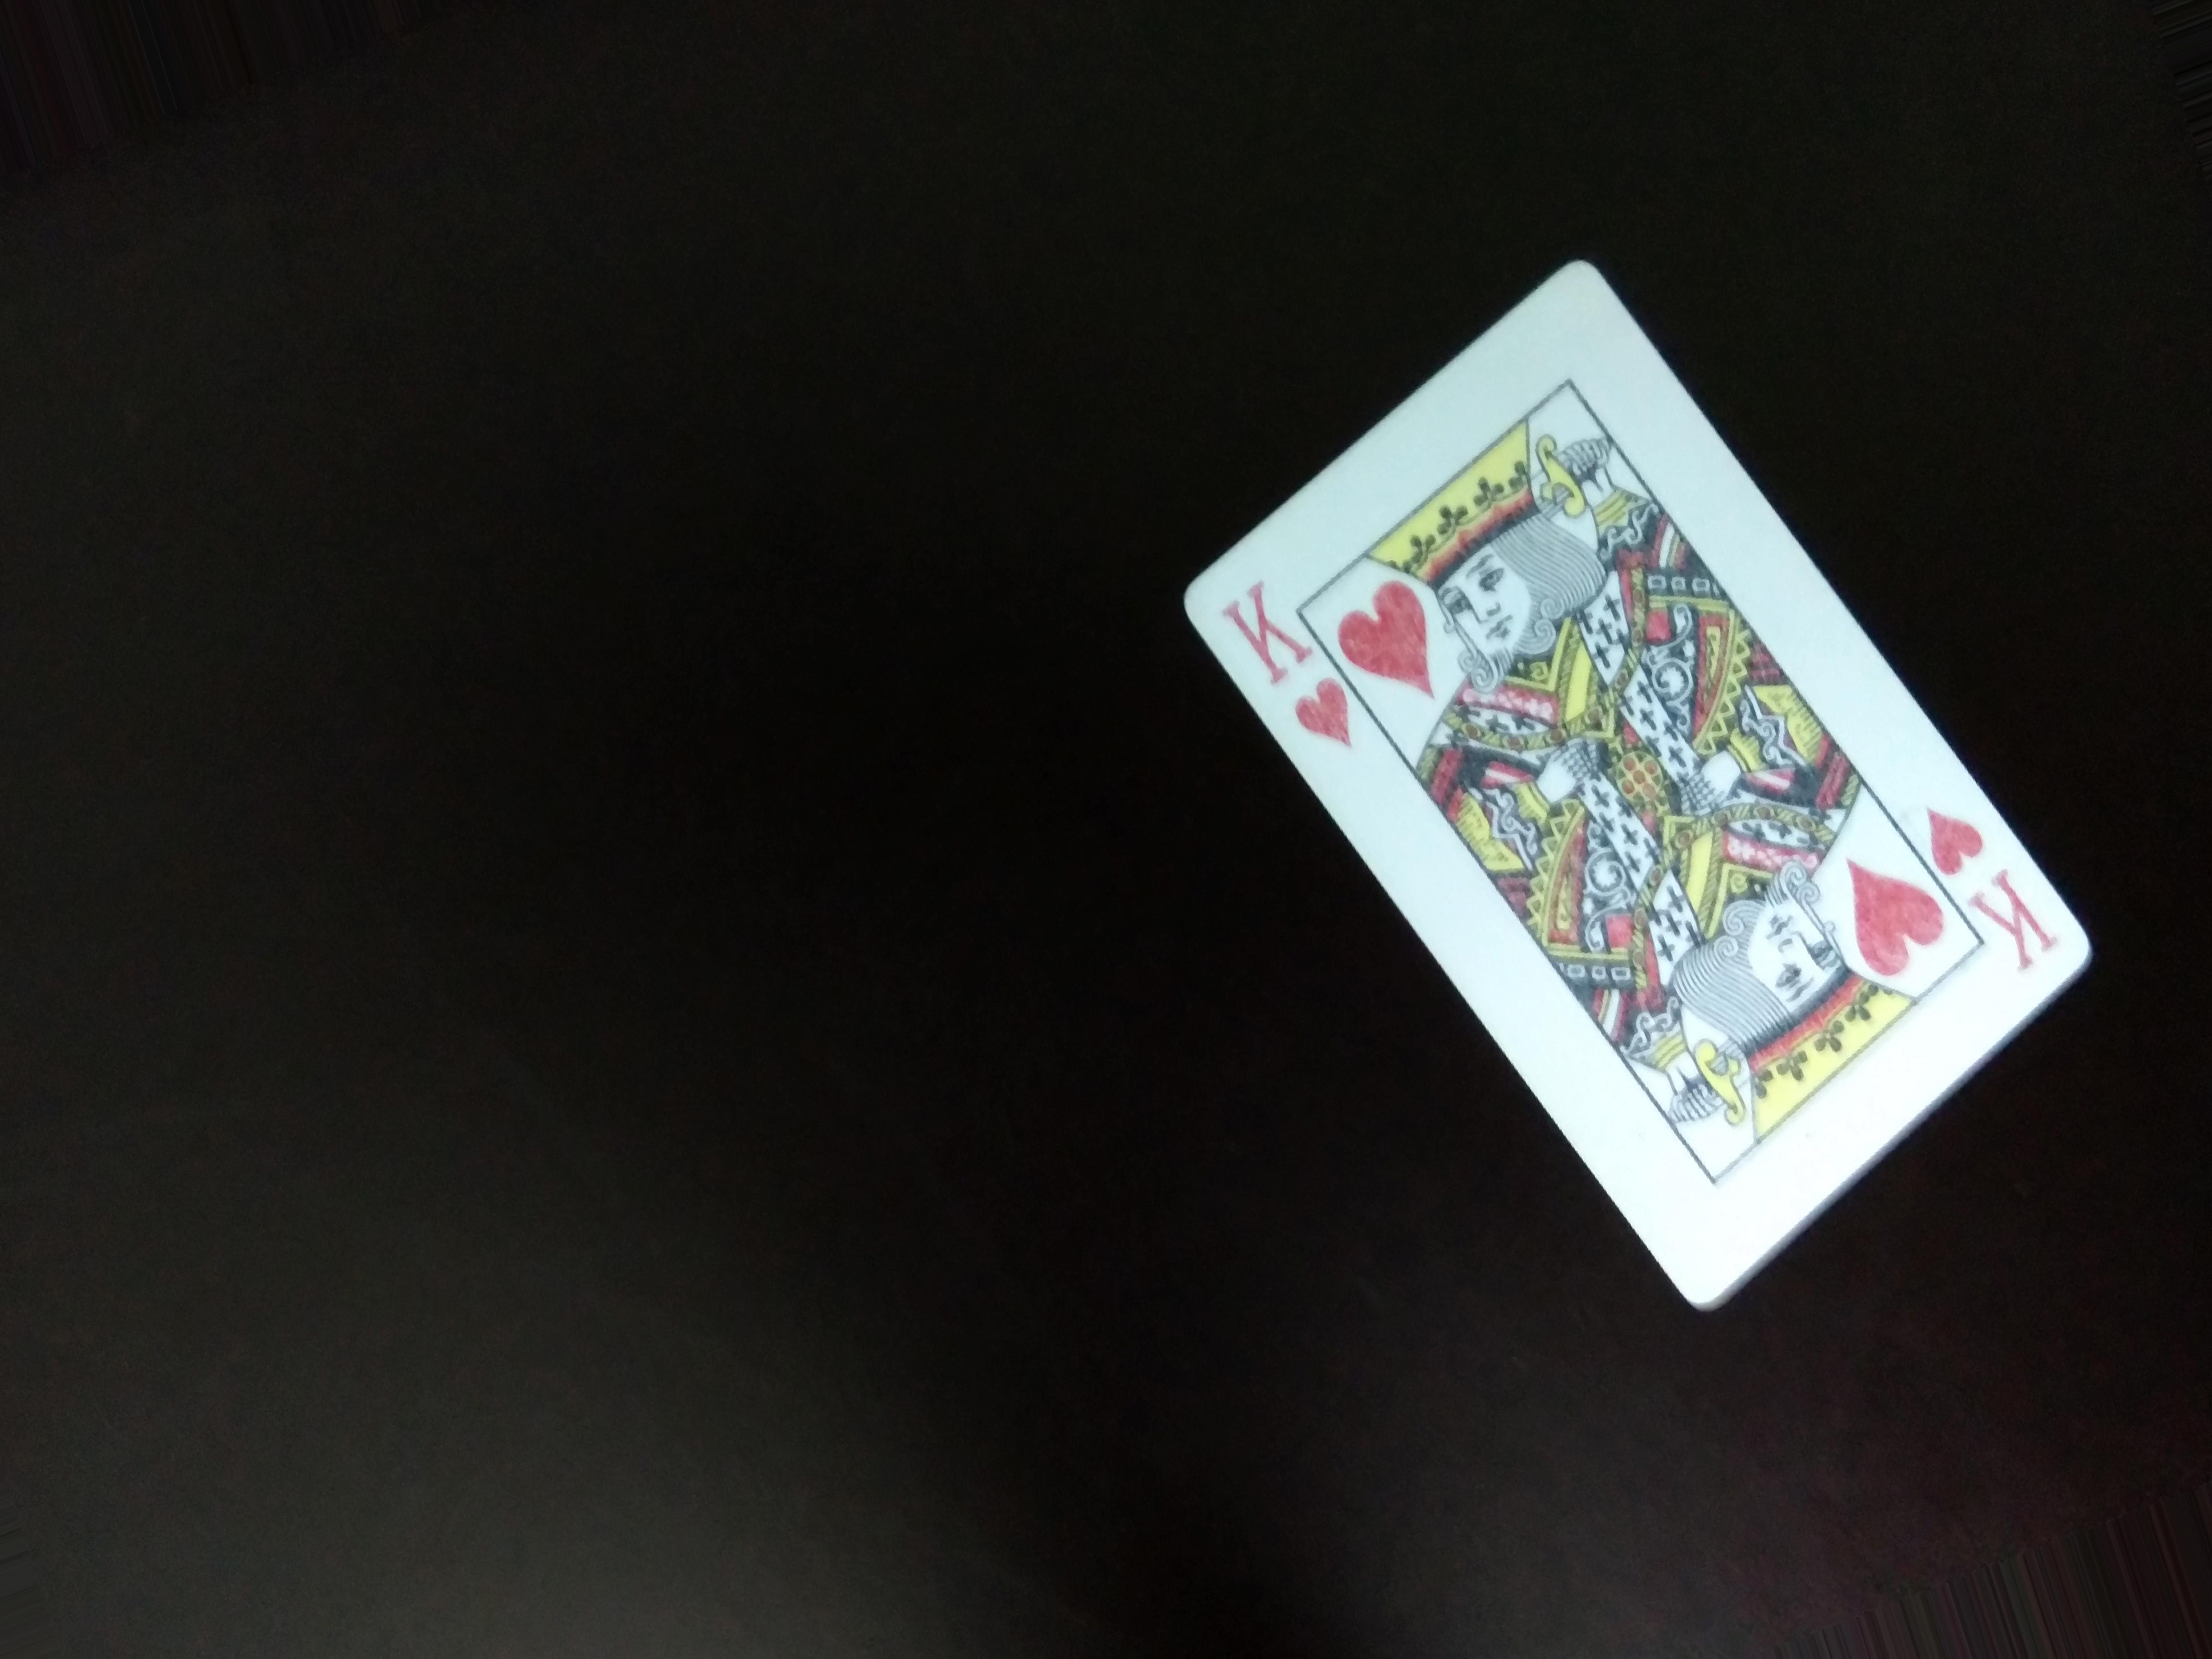KH: (1214, 568, 1359, 760)
